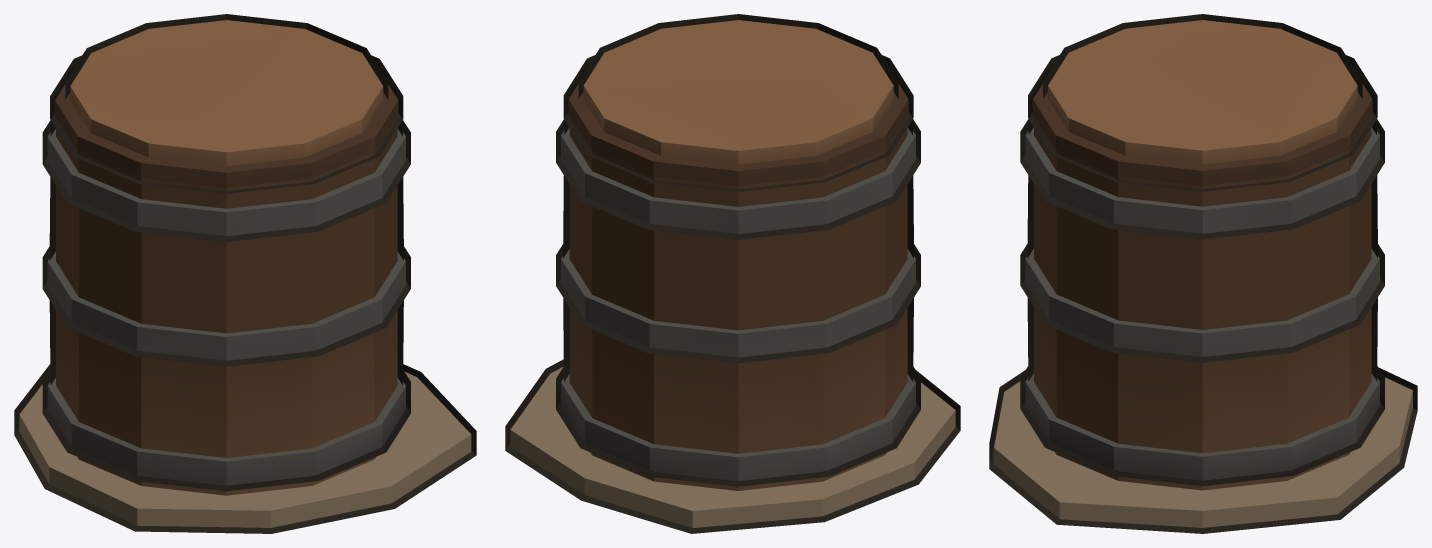
Rendered from tonneau.glb.
3 views of the same model, side by side, from view 1: azimuth 30°, elevation 25°; view 2: azimuth 150°, elevation 25°; view 3: azimuth 270°, elevation 25° (orthographic).
Parts seen in each view (by area): view 1: tonneau, tonneau_outline; view 2: tonneau, tonneau_outline; view 3: tonneau, tonneau_outline.
Part boxes in pixels (bbox=[...]): tonneau: bbox=[19, 20, 471, 527]; tonneau_outline: bbox=[14, 14, 476, 533]; tonneau: bbox=[510, 20, 955, 527]; tonneau_outline: bbox=[505, 14, 960, 533]; tonneau: bbox=[994, 20, 1412, 527]; tonneau_outline: bbox=[989, 14, 1417, 533].
Bounding box in the file's own units: 0.9166 × 0.8435 × 0.9137.
